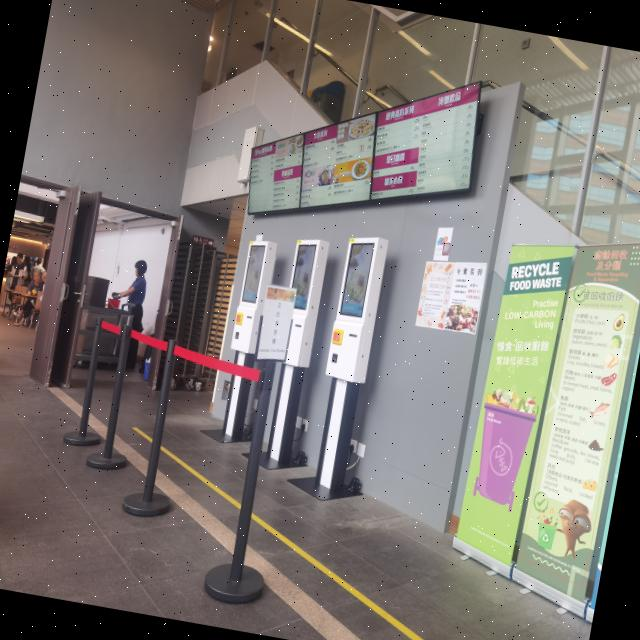orderKiosk: (323, 237, 387, 384), (274, 238, 326, 366), (230, 243, 272, 356)
